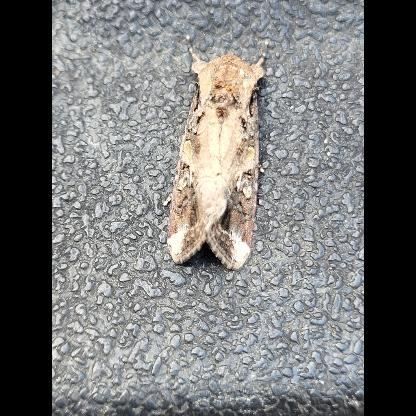Fall Armyworm Moth: (164, 31, 274, 272)
